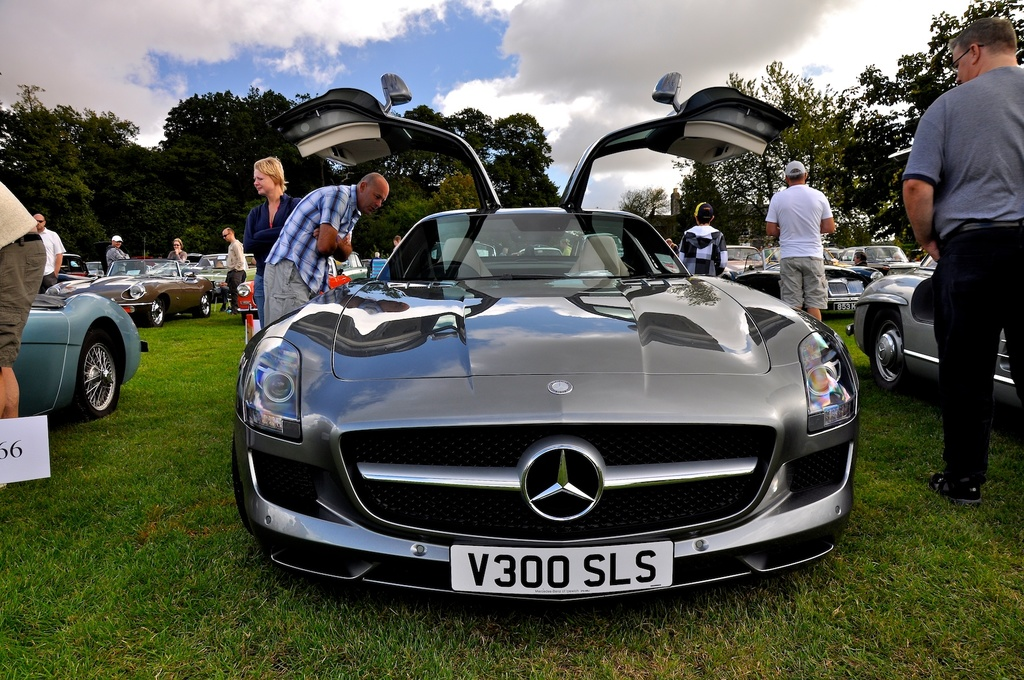Car: (227, 76, 857, 614), (849, 255, 1020, 405), (5, 284, 154, 413), (701, 234, 908, 319), (67, 246, 219, 328)
